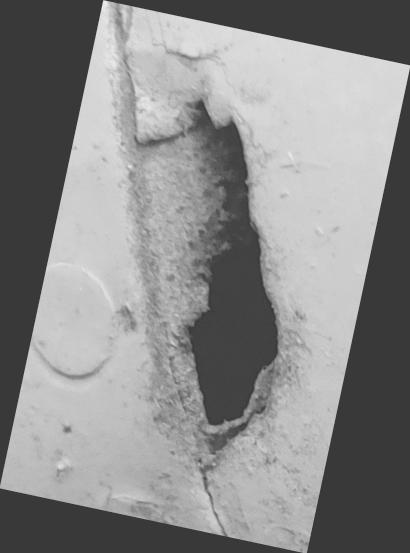crack: (0, 1, 409, 553)
